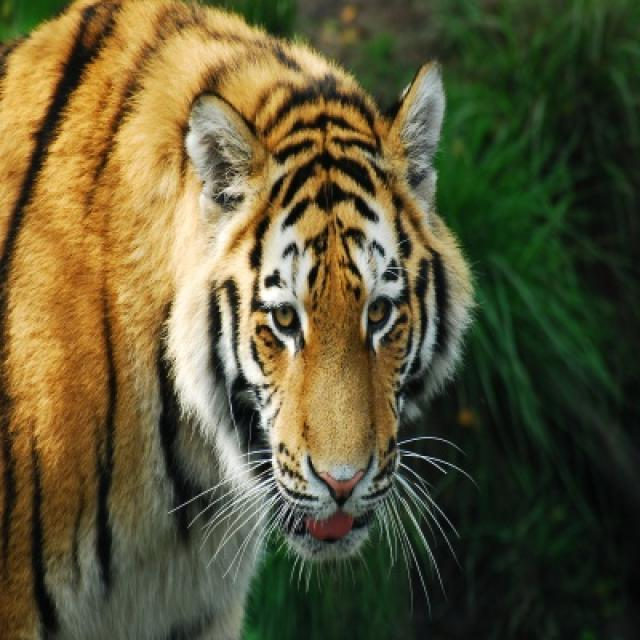Tiger: (0, 0, 473, 638)
